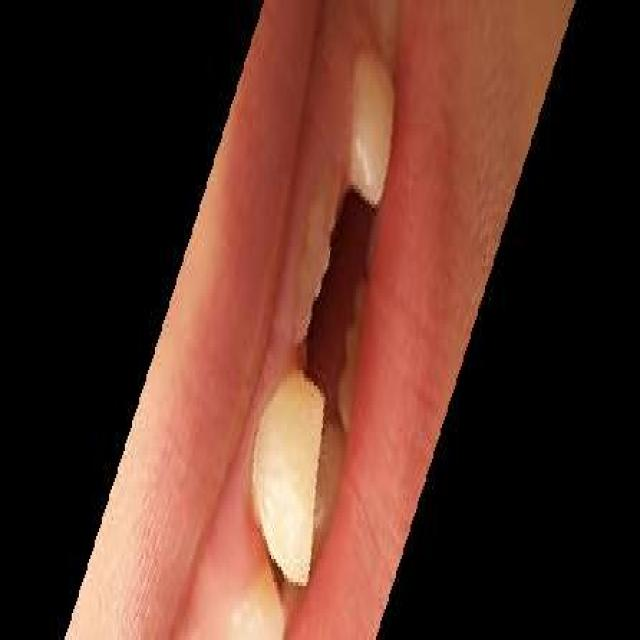caries: (296, 182, 342, 345)
